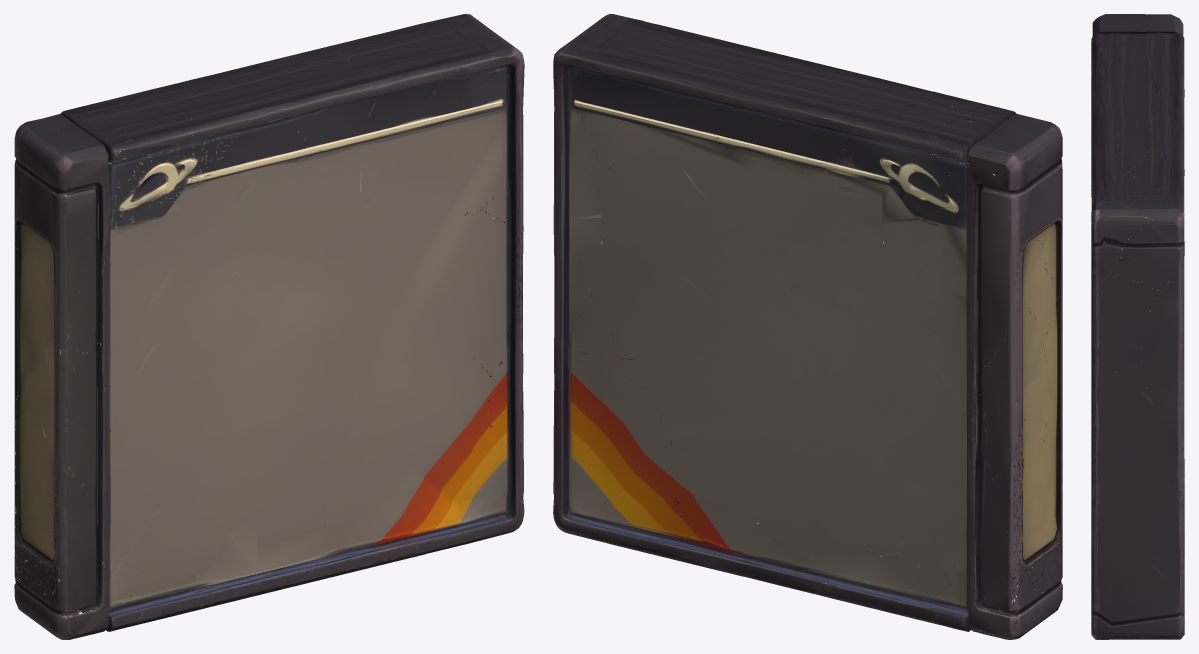
The model's file is game-case.glb.
3 renders of one model, left to right at view 1: azimuth 30°, elevation 25°; view 2: azimuth 150°, elevation 25°; view 3: azimuth 270°, elevation 25°, orthographic. The views are drawn at different scales.
Parts seen in each view (by area): view 1: node_0; view 2: node_0; view 3: node_0.
Part boxes in pixels (x1=…): node_0: x1=14, y1=14, x2=524, y2=639; node_0: x1=553, y1=14, x2=1062, y2=639; node_0: x1=1091, y1=14, x2=1184, y2=639.
Size of the model in its own units: 0.8583 by 0.8587 by 0.1676.
Materials: 1 (1 with a texture image).
